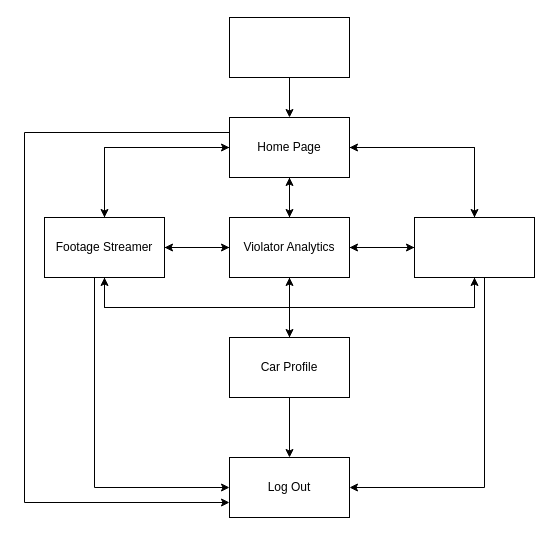
This 552x535 diagram has some shape labels left out. The shapes that lost their labels are listed below. From the top down, each one's centre as x and y in pixels, then its label:
pixel 289 47: Login Page
pixel 474 247: Road Analytics
